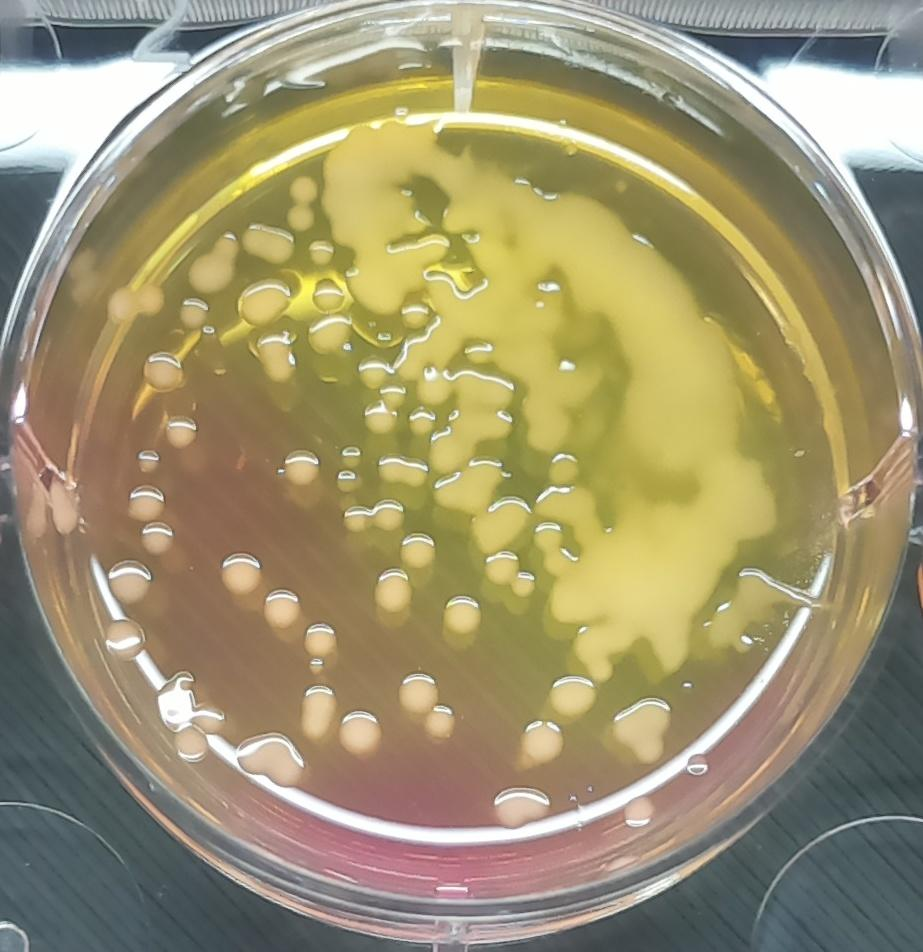staphylo-: (609, 693, 672, 765), (487, 778, 553, 830), (237, 274, 295, 327), (480, 546, 537, 599), (237, 220, 298, 269), (339, 497, 407, 540), (360, 381, 409, 439), (517, 715, 570, 767), (546, 670, 601, 720), (278, 447, 327, 501), (252, 330, 299, 385), (102, 554, 153, 604), (220, 545, 267, 598), (373, 563, 416, 619), (295, 681, 337, 736), (259, 582, 305, 631), (306, 314, 355, 359), (530, 518, 570, 573), (373, 452, 430, 489), (398, 668, 443, 712), (141, 349, 184, 393), (399, 528, 442, 569), (298, 619, 341, 657), (444, 594, 483, 635), (420, 700, 459, 740), (175, 293, 215, 331), (312, 274, 348, 314), (356, 352, 395, 388), (543, 452, 581, 488), (305, 236, 338, 268), (406, 404, 439, 434), (332, 469, 359, 496), (336, 441, 362, 468)
